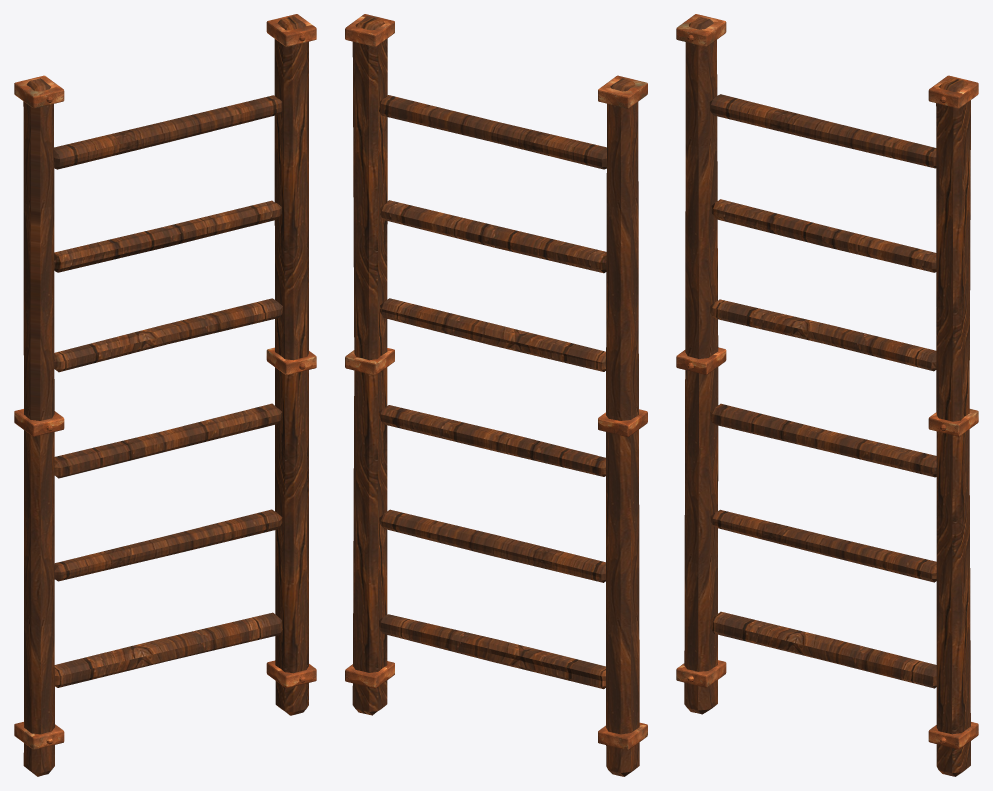
The model's file is ladder__clay_brick.glb.
3 renders of one model, left to right at view 1: azimuth 30°, elevation 25°; view 2: azimuth 150°, elevation 25°; view 3: azimuth 330°, elevation 25°, orthographic.
Parts seen in each view (by area): view 1: model; view 2: model; view 3: model.
Boxes of the visible parts, x1=… form: model: x1=14, y1=14, x2=316, y2=776; model: x1=345, y1=14, x2=647, y2=776; model: x1=676, y1=14, x2=978, y2=776.
Bounding box in the file's own units: 0.854 × 1.98 × 0.1146.
2 materials, 2 textured.
